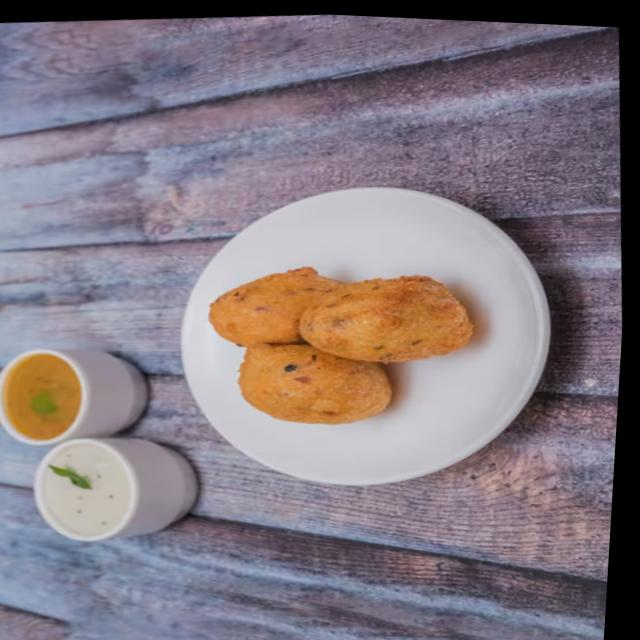BONDA: (209, 269, 475, 424)
SAMBAR: (0, 354, 85, 440)
WHITE CHUTNEY: (41, 441, 133, 532)
